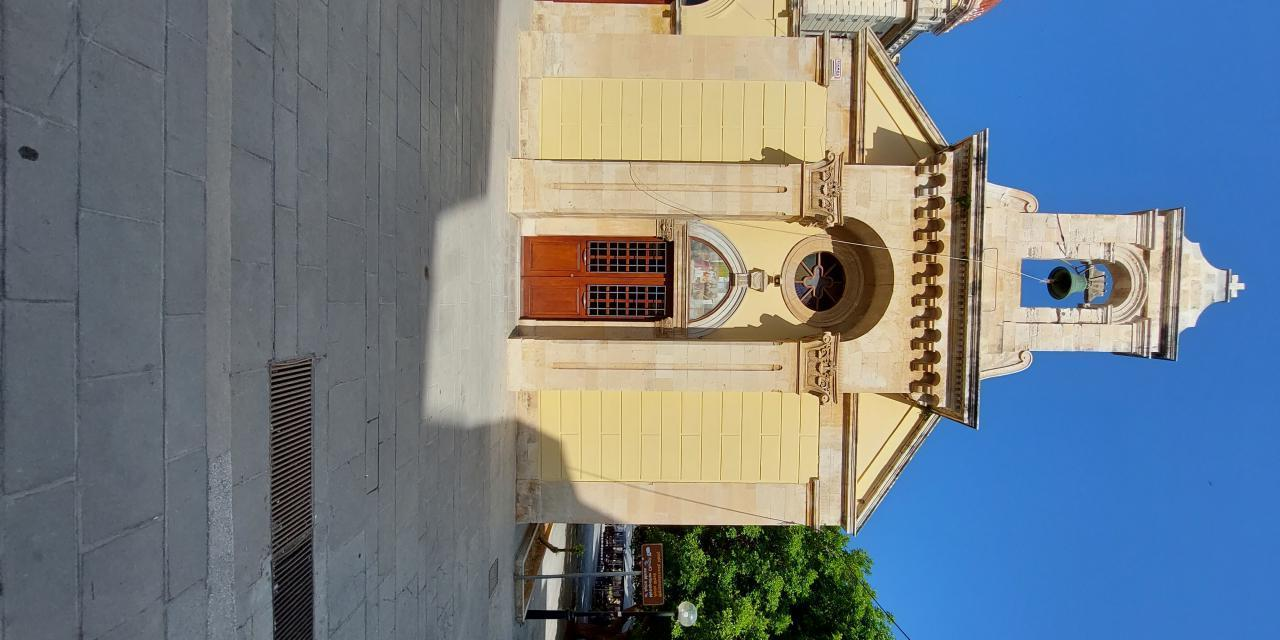Agios Minas: (705, 1, 1213, 640)
